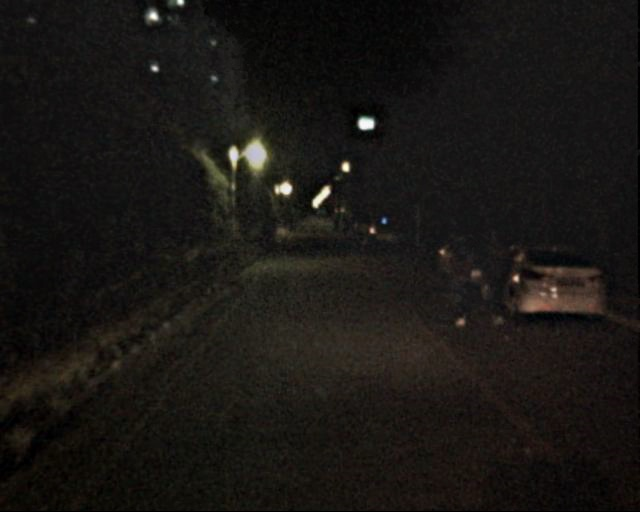person: (442, 235, 482, 332), (479, 230, 517, 328), (273, 217, 290, 258), (331, 217, 353, 241), (357, 222, 371, 252)
